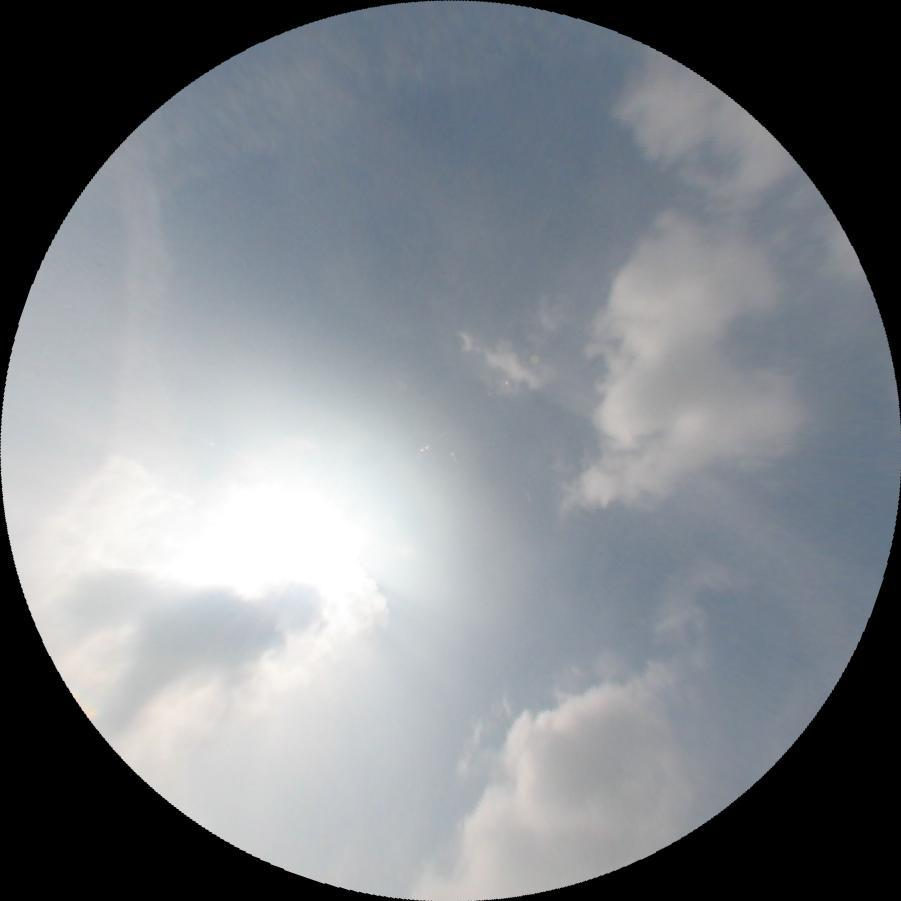sun: (205, 468, 395, 611)
